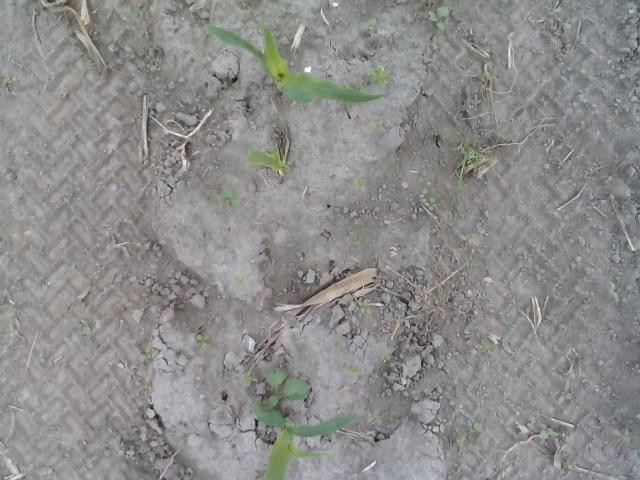Maize: (208, 24, 394, 105), (252, 400, 356, 480), (248, 146, 290, 174)
Weeds: (264, 367, 312, 408), (455, 416, 486, 450), (366, 64, 394, 88), (427, 4, 449, 34), (215, 183, 240, 208), (416, 188, 438, 211), (538, 423, 562, 440), (451, 134, 478, 148), (478, 70, 496, 89), (367, 407, 385, 426), (559, 461, 577, 480), (327, 336, 345, 352), (118, 295, 136, 311), (366, 120, 386, 134), (240, 370, 257, 386), (359, 18, 377, 33), (352, 176, 368, 192), (348, 232, 366, 246), (458, 234, 478, 246), (5, 76, 16, 97), (608, 281, 624, 295), (79, 319, 91, 337), (194, 334, 208, 349), (233, 276, 250, 288), (342, 367, 362, 377), (144, 346, 158, 360), (616, 431, 634, 441), (290, 16, 300, 33), (79, 275, 96, 285), (127, 8, 145, 17), (560, 392, 576, 402), (358, 300, 370, 313), (381, 346, 391, 360), (457, 176, 465, 192), (480, 341, 494, 350), (246, 7, 258, 17), (32, 0, 44, 9), (64, 447, 71, 457), (528, 414, 536, 422), (56, 0, 66, 6)
